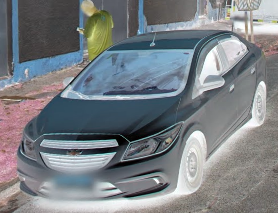car: (17, 32, 270, 199)
